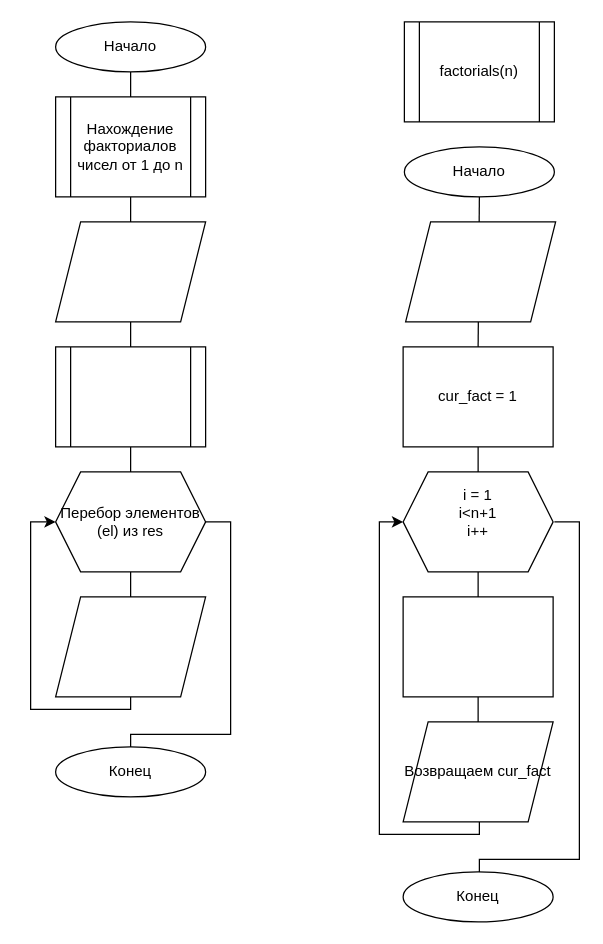
Some shapes in this 603 by 944 pixel diagram are drawn without their labels. The centre of each missing label's shape, as x and y in pixels:
"cur_fact *= i" goes at [477,646].
"res = factorials (user_number)" goes at [130,396].
"Ввод user_number" goes at [130,271].
"Вывод el" goes at [130,646].
"Получаем n" goes at [480,271].
